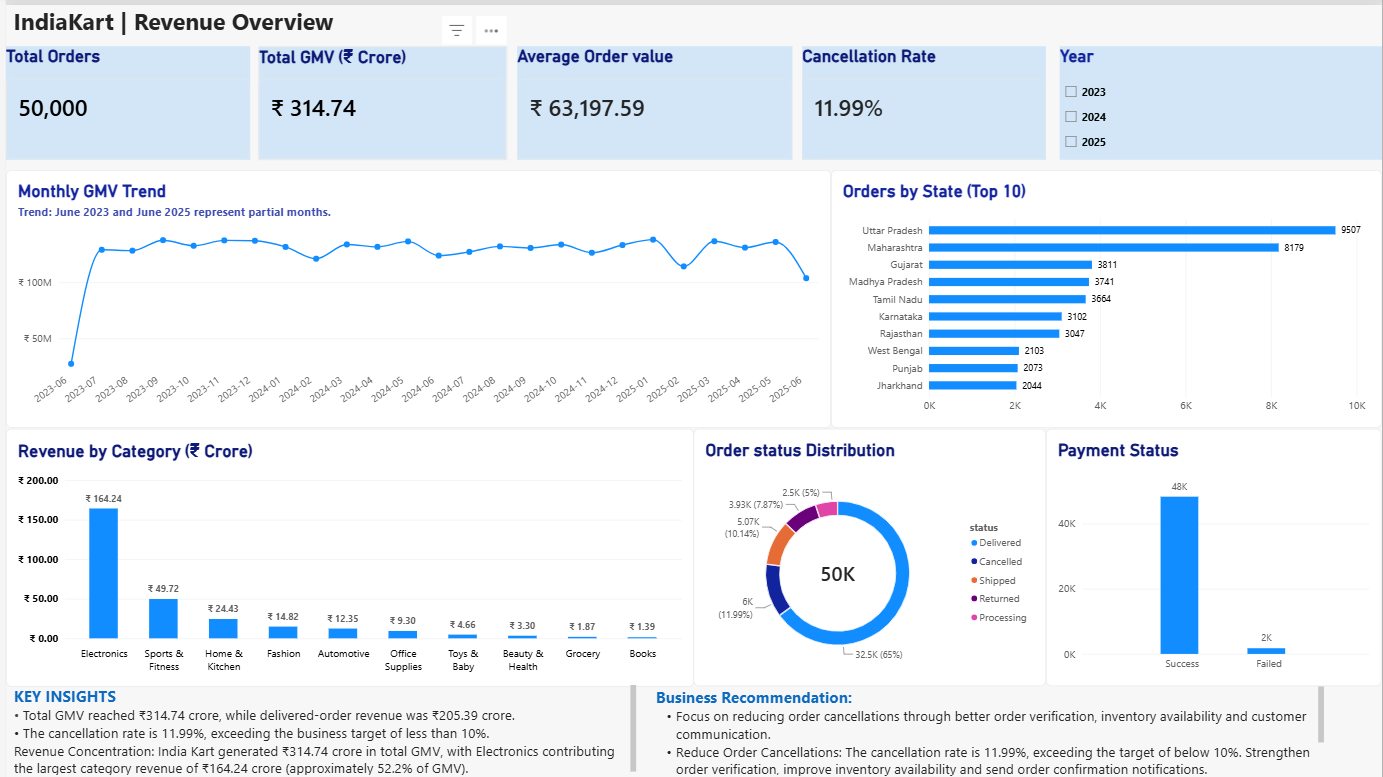

The page's visual inventory and layout, read from the dashboard file:
{"tool":"powerbi","page":{"name":"Revenue Overview","canvas":[1920,1080],"ordinal":0},"visuals":[{"type":"textbox","box":[10.3,0,487.8,57.6],"z":0},{"type":"cardVisual","title":"Total Orders","fields":{"Data":["Count(orders DA.order_id)"]},"box":[0,57.6,340.4,158.5],"z":1000},{"type":"cardVisual","title":"Total GMV (₹ Crore)","fields":{"Data":["customers DA.Total GMV (Crore)"]},"box":[353,57.6,345.8,158.5],"z":2000},{"type":"cardVisual","title":"Average Order value","fields":{"Data":["orders DA.Average Order Value"]},"box":[713.2,57.6,383.6,158.5],"z":3000},{"type":"cardVisual","title":"Cancellation Rate","fields":{"Data":["customers DA.Cancellation Rate"]},"box":[1111.3,57.6,340,158],"z":4000},{"type":"lineChart","title":"Monthly GMV Trend","fields":{"Category":["orders DA.Year Month"],"Y":["Sum(orders DA.final_amount)"]},"box":[0,230.5,1150.9,360.2],"z":5000},{"type":"clusteredBarChart","title":"Orders by State (Top 10)","fields":{"Category":["orders DA.state"],"Y":["CountNonNull(orders DA.order_id)"]},"box":[1150.9,230.5,769.1,360.2],"z":6000},{"type":"clusteredColumnChart","title":"Revenue by Category (₹ Crore)","fields":{"Category":["order_items DA.category"],"Y":["customers DA.Category Revenue (Crore)"]},"box":[0,590.8,960,360.2],"z":7000},{"type":"donutChart","title":"Order status Distribution","fields":{"Category":["orders DA.status"],"Y":["CountNonNull(orders DA.order_id)"]},"box":[960,590.8,491.7,359],"z":8000},{"type":"clusteredColumnChart","title":"Payment Status","fields":{"Category":["payments DA.status"],"Y":["customers DA.Payment Count by Order Date"]},"box":[1451.7,590.8,468,359],"z":9000},{"type":"slicer","title":"Year","fields":{"Values":["orders DA.order_date.Variation.Date Hierarchy.Year"]},"box":[1469.7,57.6,450.3,158.5],"z":10000},{"type":"textbox","box":[100,100,300,300],"z":11000},{"type":"textbox","box":[9.9,948.3,868.8,133.2],"z":12000},{"type":"textbox","box":[906.5,950.3,932.4,129.2],"z":13000}]}

Visuals, with their boxes in screenshot pixels (x1, y1, x2, y2), scaled from the page's 1920x1080 canvas onto the 1383x777 screenshot:
textbox: [7,0,359,41]
"Total Orders" cardVisual: [0,41,245,155]
"Total GMV (₹ Crore)" cardVisual: [254,41,503,155]
"Average Order value" cardVisual: [514,41,790,155]
"Cancellation Rate" cardVisual: [800,41,1045,155]
"Monthly GMV Trend" lineChart: [0,166,829,425]
"Orders by State (Top 10)" clusteredBarChart: [829,166,1382,425]
"Revenue by Category (₹ Crore)" clusteredColumnChart: [0,425,692,684]
"Order status Distribution" donutChart: [692,425,1046,683]
"Payment Status" clusteredColumnChart: [1046,425,1382,683]
"Year" slicer: [1059,41,1382,155]
textbox: [72,72,288,288]
textbox: [7,682,633,776]
textbox: [653,684,1325,776]
